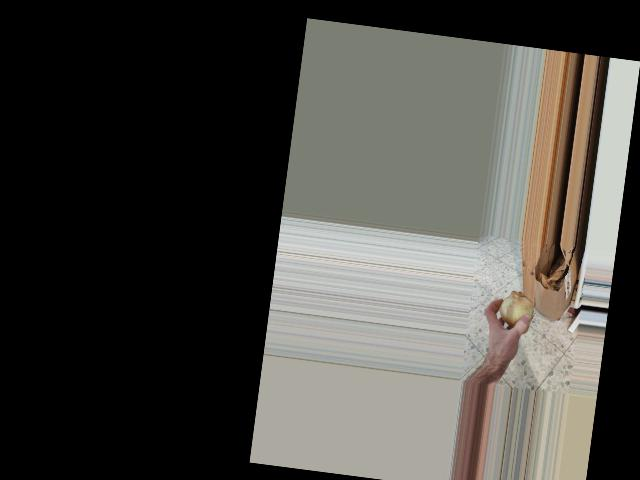onion: (492, 287, 539, 339)
